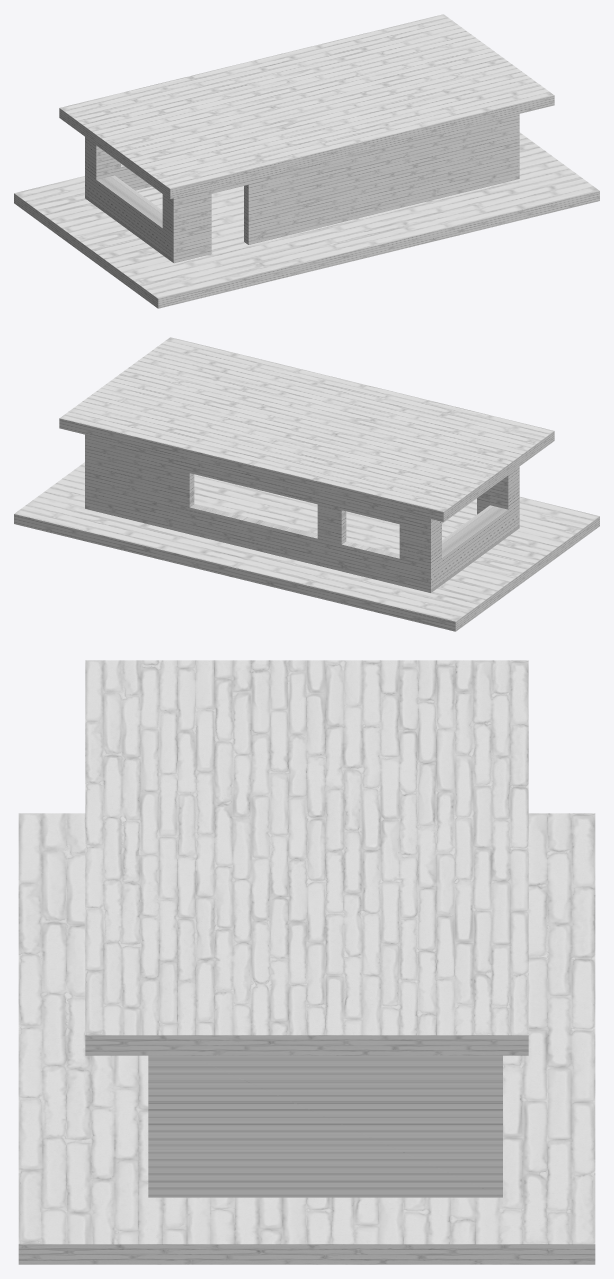
The model's file is Casa 2-3.fbx.
3 views of the same model, one above another, from view 1: azimuth 30°, elevation 25°; view 2: azimuth 150°, elevation 25°; view 3: azimuth 270°, elevation 25° (orthographic). The views are drawn at different scales.
Visible parts, largest first — view 1: Suelo.010, Suelo.007, Predes2.002; view 2: Suelo.010, Suelo.007, Predes2.002; view 3: Suelo.010, Suelo.007, Predes2.002.
Part boxes in pixels (x1,y1,x2,y2): Suelo.010: (59, 14, 554, 198); Suelo.007: (14, 132, 599, 308); Predes2.002: (85, 114, 519, 263); Suelo.010: (59, 337, 554, 521); Suelo.007: (14, 462, 599, 631); Predes2.002: (85, 434, 519, 592); Suelo.010: (85, 660, 528, 1055); Suelo.007: (18, 813, 595, 1264); Predes2.002: (148, 1055, 502, 1197).
Size of the model in its own units: 2300 by 500 by 1300.
